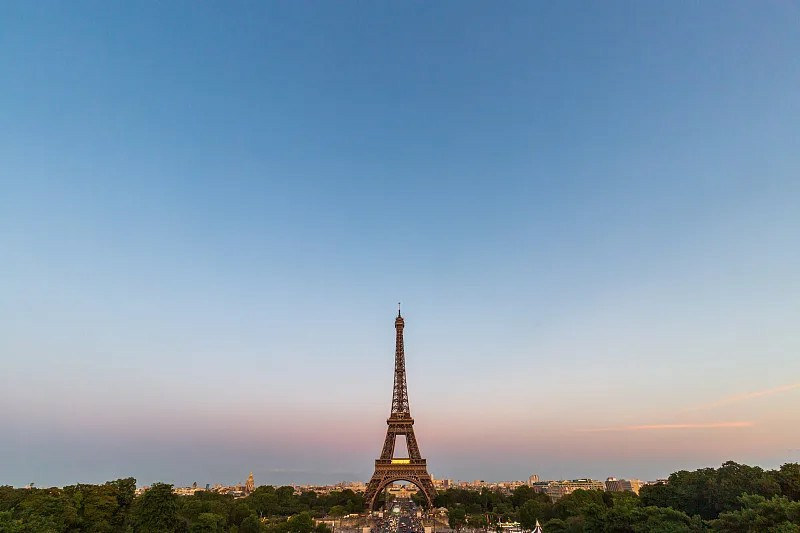Eiffel: (362, 303, 438, 514)
